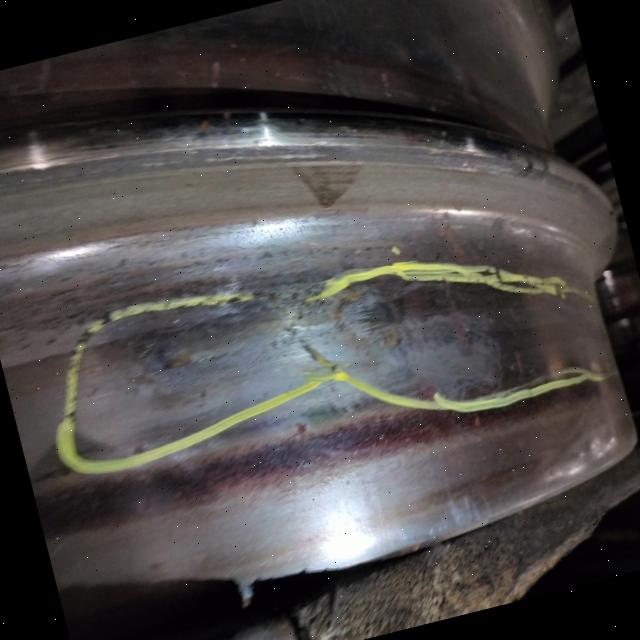flat: (87, 223, 556, 478)
